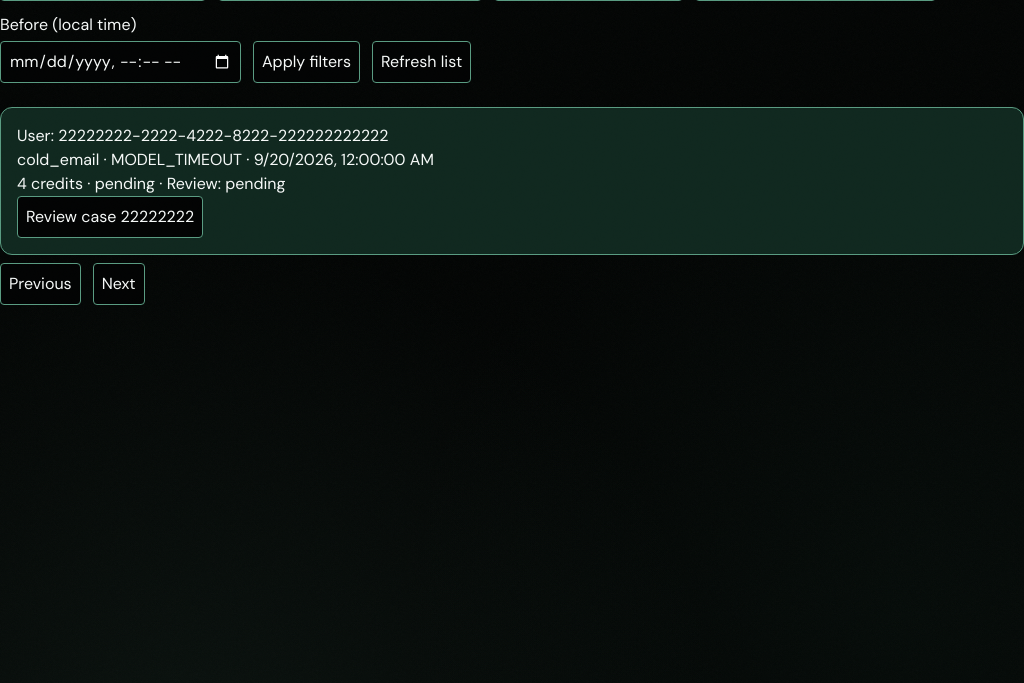
Test: reviews, comments and disables repeated credit actions after confirmation
Click the button "Review case 22222222". click: x=110, y=217
box: 17,196 -> 203,238
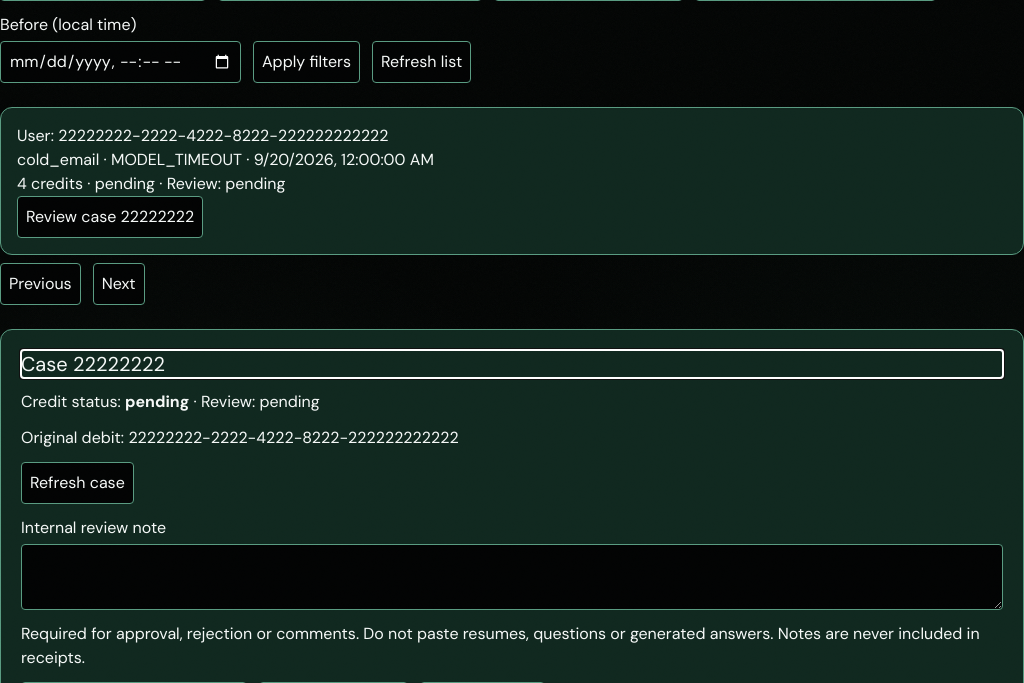
Type "Confirmed server failure" into the text box labelled "Internal review note". click: x=512, y=577
box: 21,544 -> 1003,610
(page scrolled)
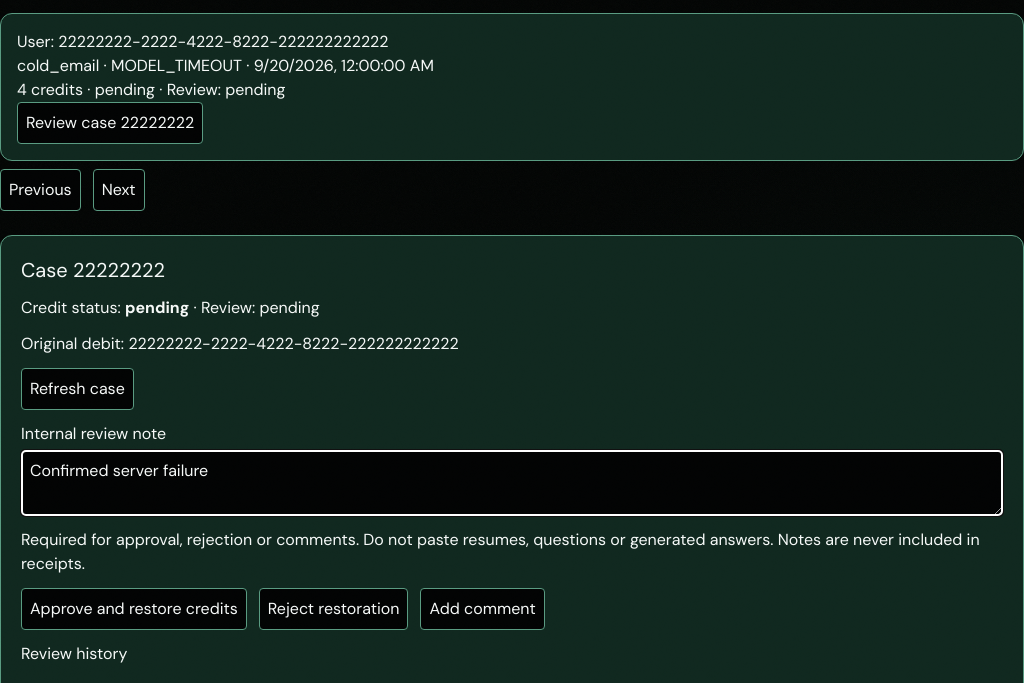
Click the button "Approve and restore credits". click: x=134, y=609
box: 21,588 -> 247,630
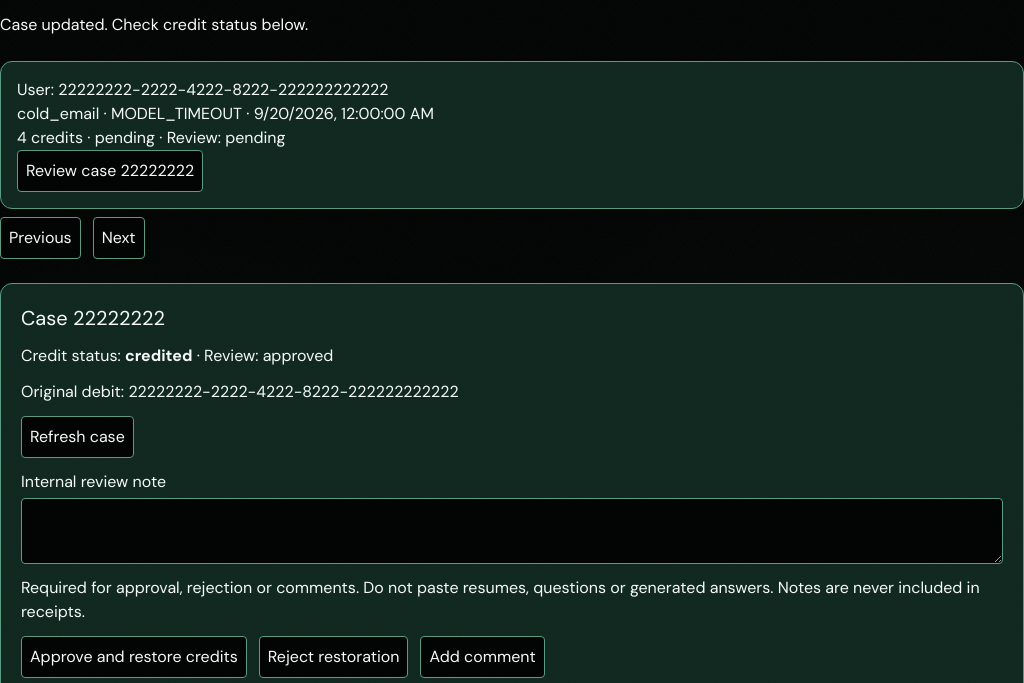
Result: the button "Approve and restore credits" is disabled at 21,636 -> 247,678
